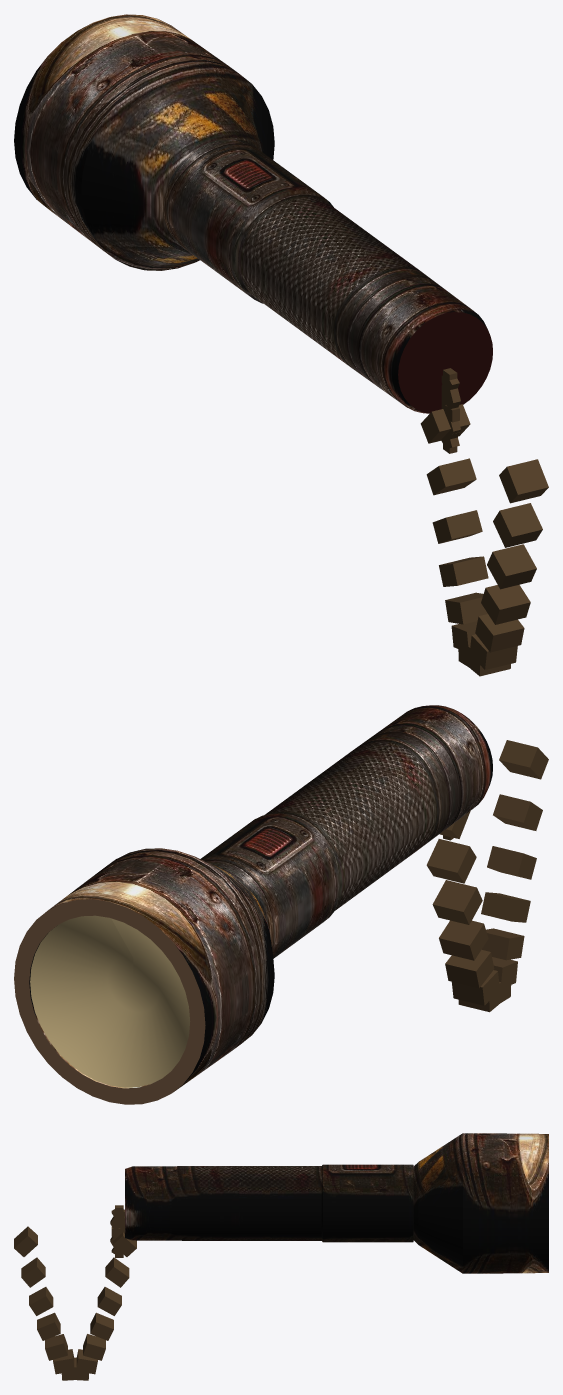
File: torch_hand.glb
3 views of the same model, one above another, from view 1: azimuth 30°, elevation 25°; view 2: azimuth 150°, elevation 25°; view 3: azimuth 270°, elevation 25° (orthographic). The views are drawn at different scales.
Parts seen in each view (by area): view 1: body, strap; view 2: body, reflector, strap; view 3: body, strap.
Boxes of the visible parts, x1=… form: body: x1=14, y1=14, x2=492, y2=413; strap: x1=420, y1=368, x2=548, y2=676; body: x1=14, y1=705, x2=492, y2=1104; reflector: x1=30, y1=915, x2=190, y2=1087; strap: x1=426, y1=740, x2=548, y2=1012; body: x1=125, y1=1133, x2=548, y2=1273; strap: x1=14, y1=1205, x2=136, y2=1380.
Size of the model in its own units: 0.0998 by 0.1846 by 0.3785.
3 materials, 2 textured.
